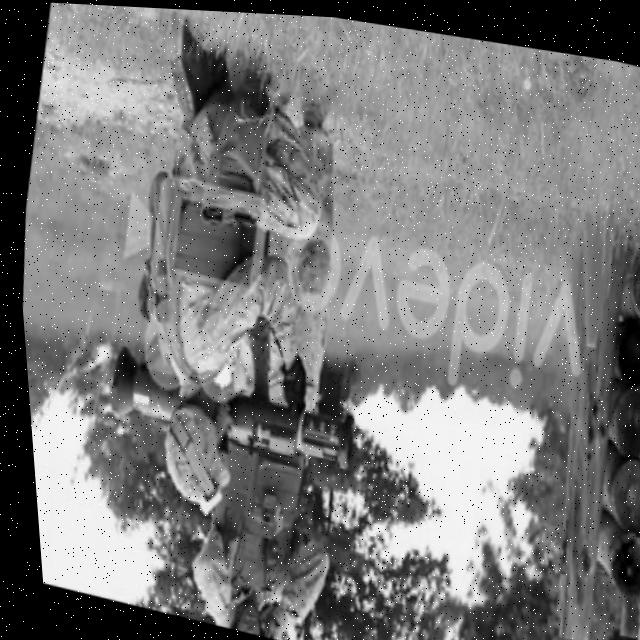rocket: (95, 347, 359, 476)
